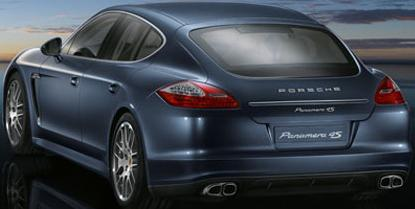back_view: (172, 67, 410, 195)
backlight: (147, 63, 231, 105)
side_glass: (59, 9, 155, 58)
